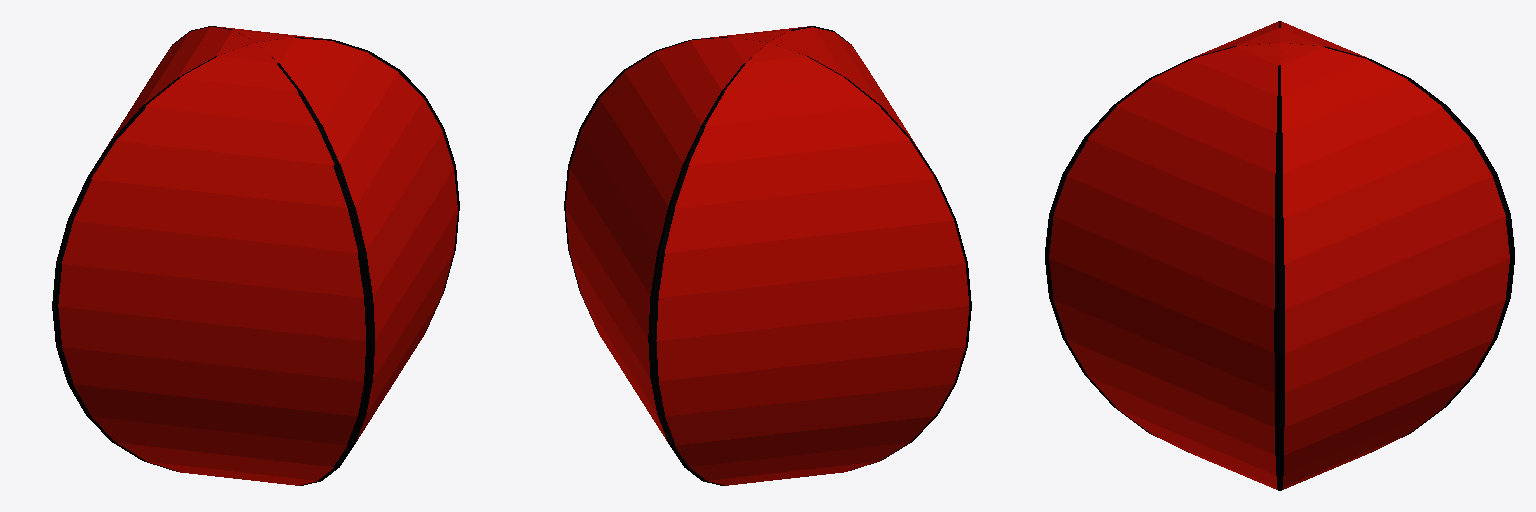
3 renders of one model, left to right at view 1: azimuth 30°, elevation 25°; view 2: azimuth 150°, elevation 25°; view 3: azimuth 270°, elevation 25°, orthographic.
Visible parts, largest first — view 1: 球; view 2: 球; view 3: 球.
Boxes of the visible parts, box(x1,y1,x2,y2) form: 球: box(52, 26, 459, 485); 球: box(564, 26, 971, 485); 球: box(1045, 21, 1514, 490).
Bounding box in the file's own units: 1.16 × 1.16 × 1.16.
Materials: 1 (1 with a texture image).